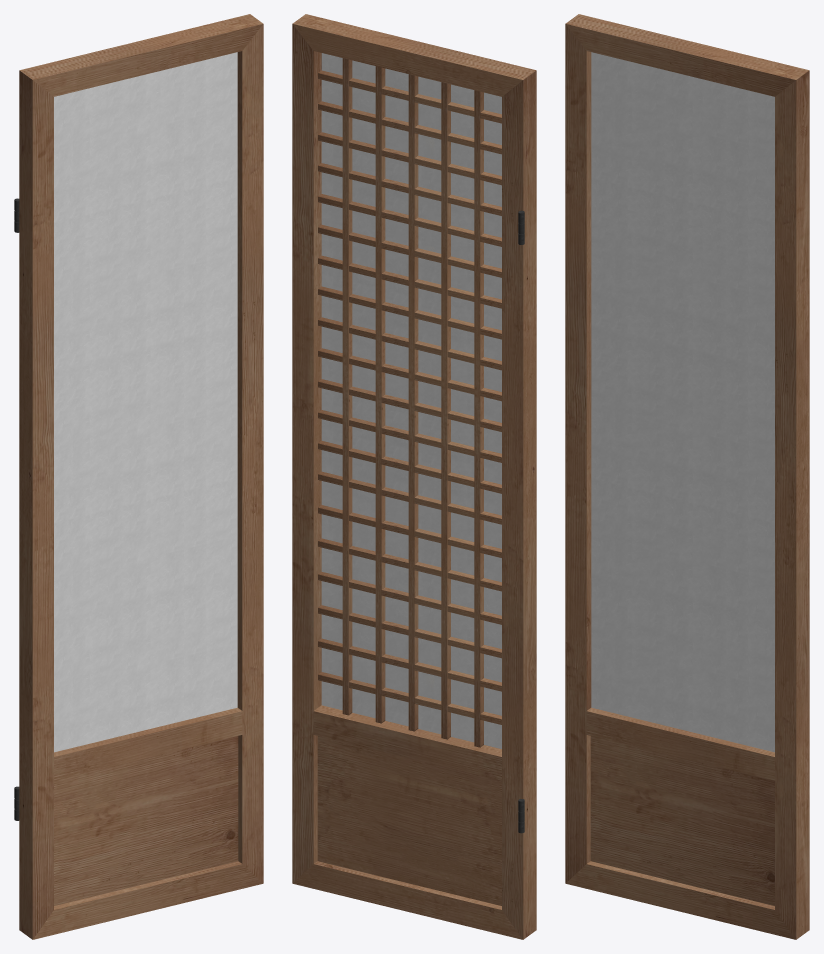
File: SM_Yeonkyung_S_Haenggak_Win_F_001.fbx
3 views of the same model, side by side, from view 1: azimuth 30°, elevation 25°; view 2: azimuth 150°, elevation 25°; view 3: azimuth 330°, elevation 25° (orthographic).
Parts seen in each view (by area): view 1: SM_Yeonkyung_S_Haenggak_Win_F_001; view 2: SM_Yeonkyung_S_Haenggak_Win_F_001; view 3: SM_Yeonkyung_S_Haenggak_Win_F_001.
Part boxes in pixels (x1=…): SM_Yeonkyung_S_Haenggak_Win_F_001: x1=14, y1=14, x2=263, y2=939; SM_Yeonkyung_S_Haenggak_Win_F_001: x1=292, y1=14, x2=536, y2=939; SM_Yeonkyung_S_Haenggak_Win_F_001: x1=565, y1=14, x2=809, y2=939.
Bounding box in the file's own units: 50.36 × 177 × 6.23.
